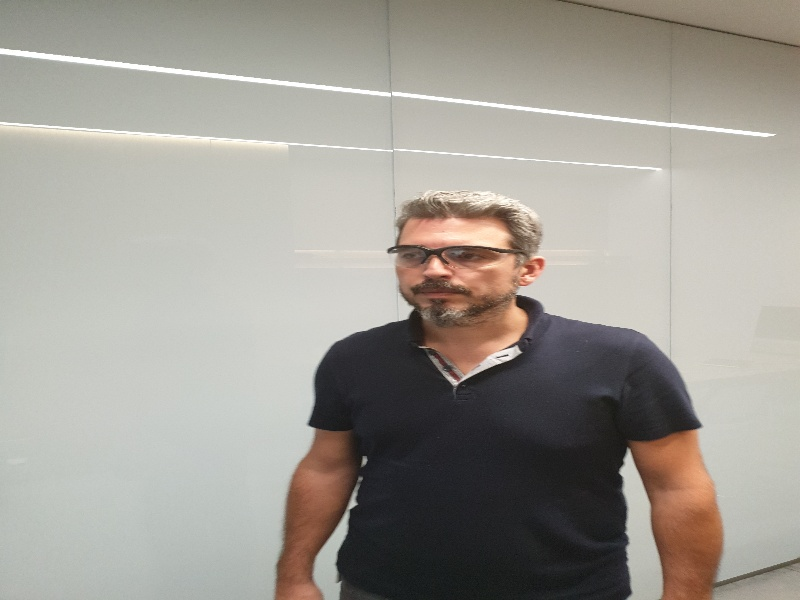Gozluk: (387, 246, 525, 266)
